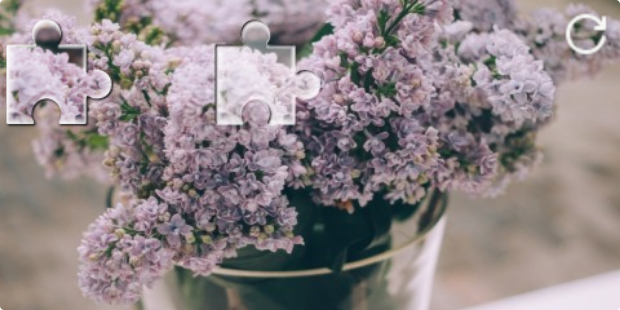target: (216, 20, 318, 125)
